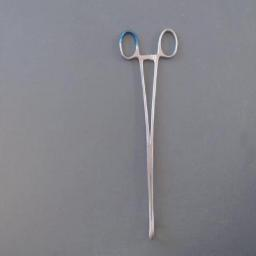Sponge Forceps: (116, 23, 182, 247)
